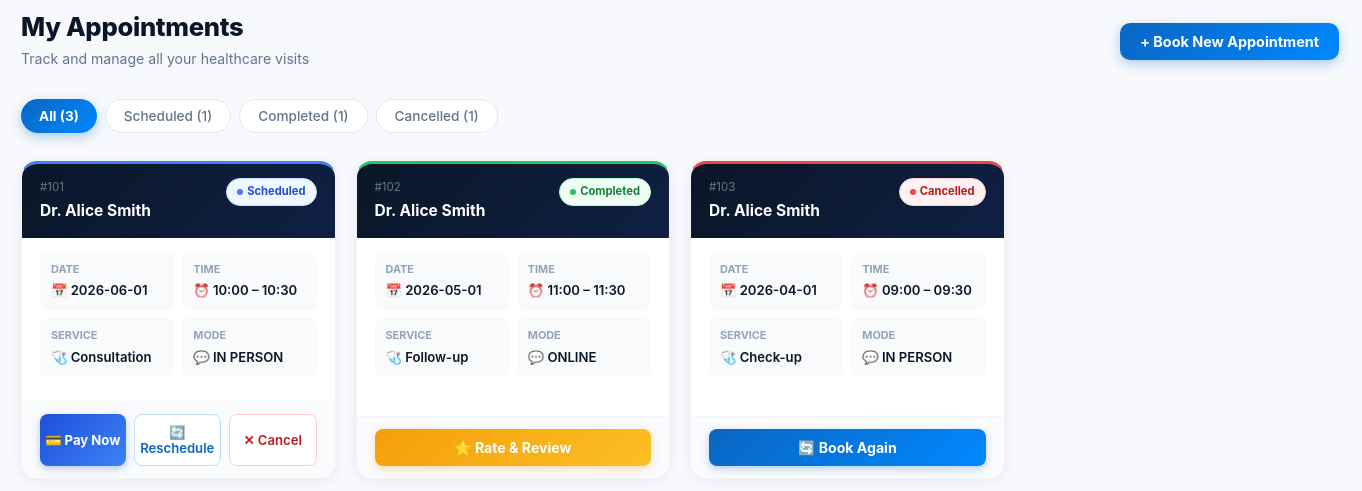
Scenario: MyAppointments Component › filters to only SCHEDULED appointments when Scheduled tab is clicked
This screenshot has width=1362, height=491.
Click the button "Scheduled (1)" at (168, 116), box [105,99,231,133]
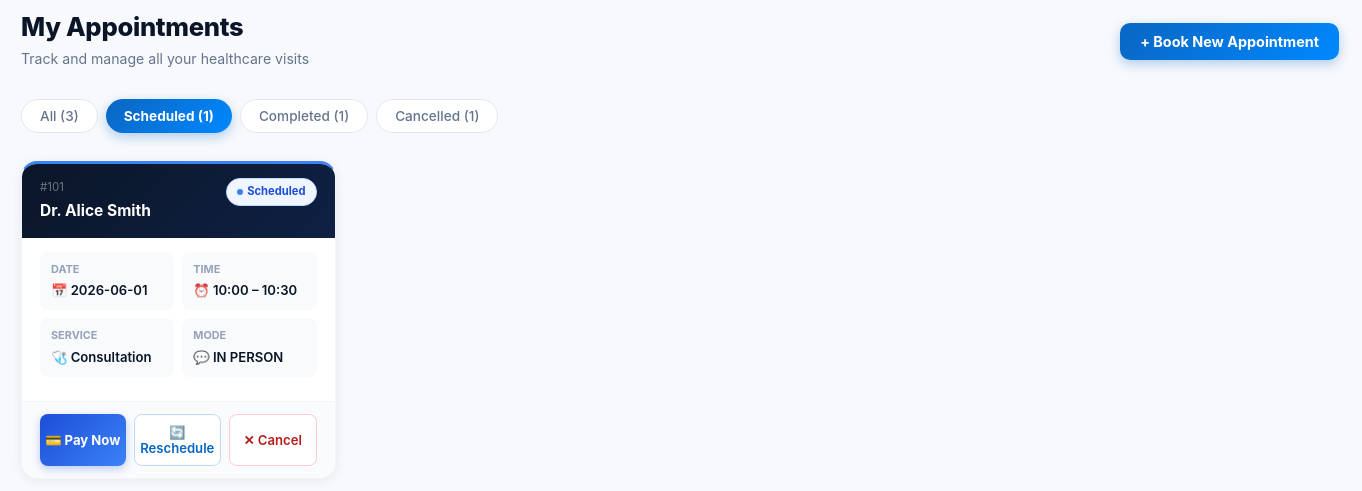
Expected: the text "#101" is shown, [40,180,64,194]
Expected: the text "#102" is gone
Expected: the text "#103" is gone
